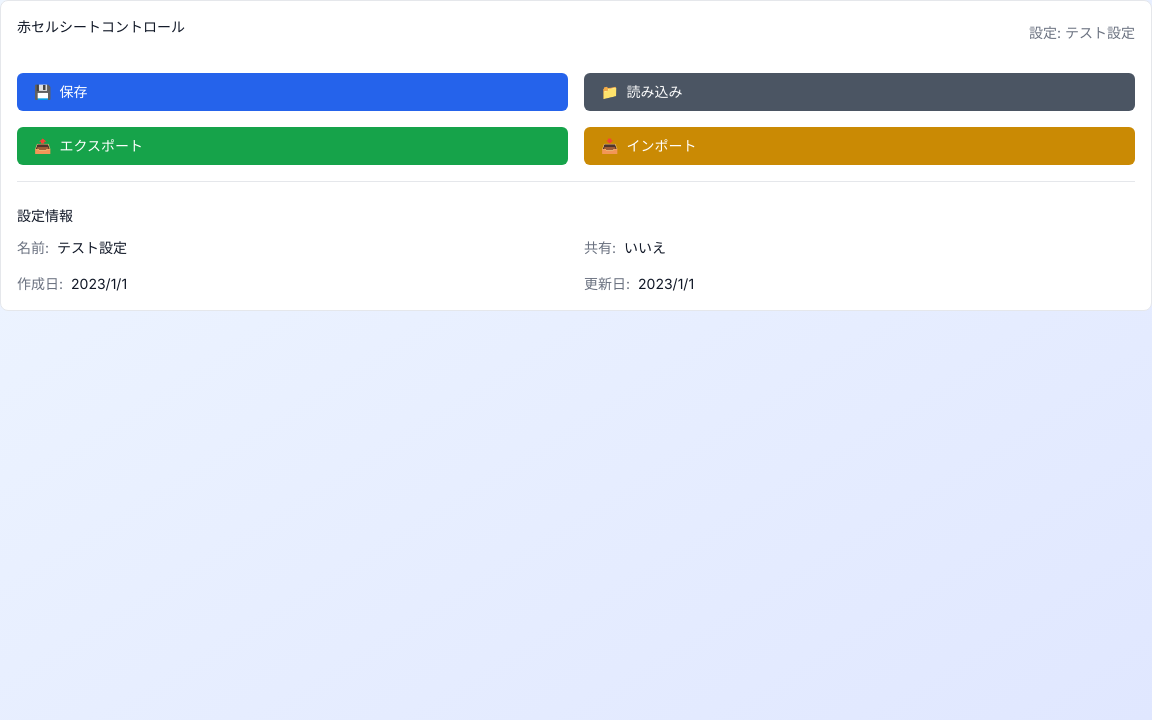
Test case: RedactionControls › エラーハンドリング › should handle load error
The width and height of the screenshot is (1152, 720).
Click the button with test id "load-button" at (654, 92), box x1=584 y1=73 x2=1135 y2=111
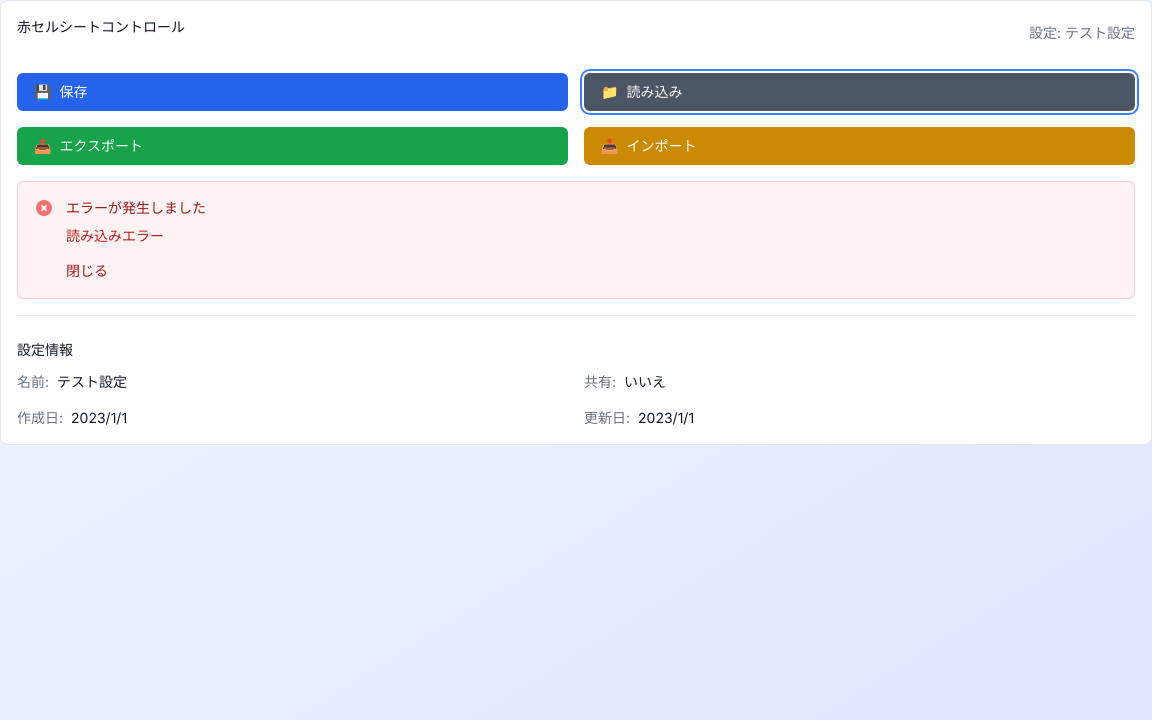
Now the element with test id "error-message" is shown, box x1=17 y1=181 x2=1135 y2=299
Now the text "読み込みエラー" is shown, box x1=66 y1=227 x2=164 y2=244
